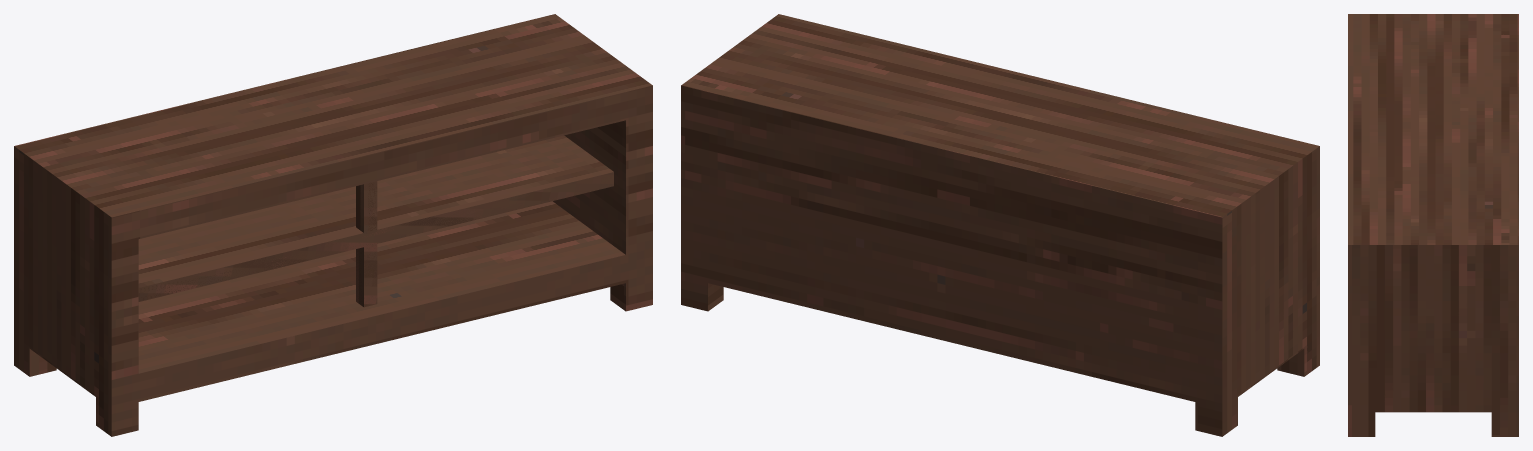
The model's file is cabinet_final.fbx.
3 views of the same model, side by side, from view 1: azimuth 30°, elevation 25°; view 2: azimuth 150°, elevation 25°; view 3: azimuth 270°, elevation 25° (orthographic). The views are drawn at different scales.
Visible parts, largest first — view 1: cabinetTelevision; view 2: cabinetTelevision; view 3: cabinetTelevision.
Boxes of the visible parts, x1,y1,x2,y2 form: cabinetTelevision: (14, 14, 652, 436); cabinetTelevision: (681, 14, 1319, 436); cabinetTelevision: (1348, 14, 1518, 436).
Bounding box in the file's own units: 169 × 65.48 × 52.81.
